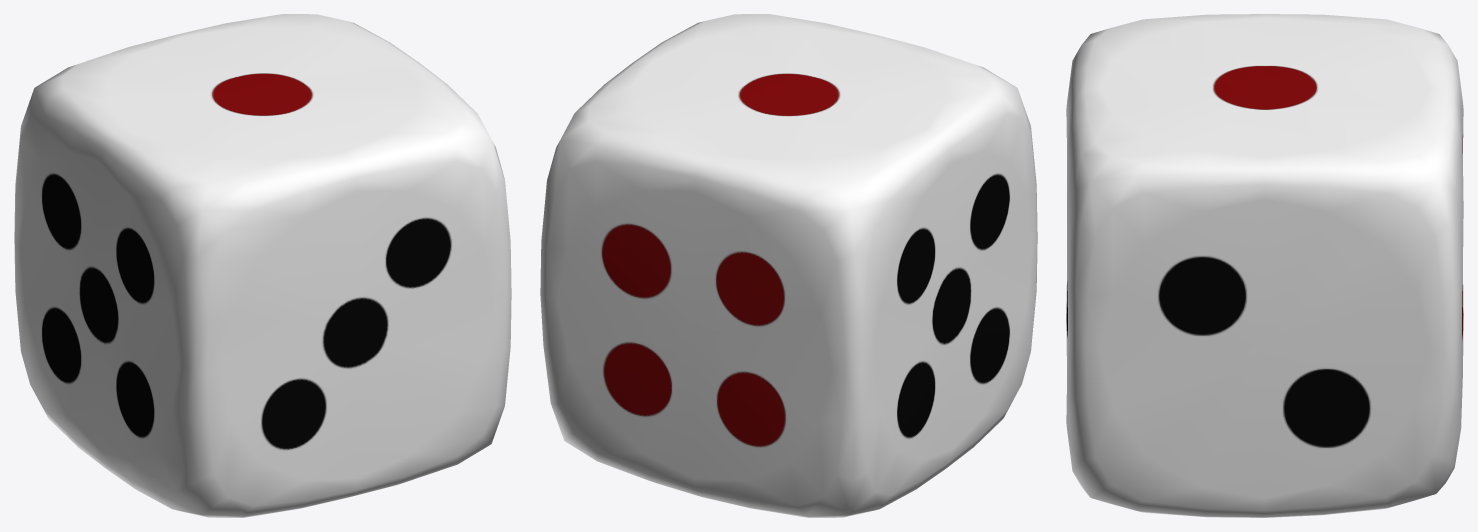
File: dice.glb
3 renders of one model, left to right at view 1: azimuth 30°, elevation 25°; view 2: azimuth 150°, elevation 25°; view 3: azimuth 270°, elevation 25°, orthographic. The views are drawn at different scales.
Parts seen in each view (by area): view 1: Dice_low; view 2: Dice_low; view 3: Dice_low.
Part boxes in pixels (x1,y1,x2,y2): Dice_low: (14, 14, 511, 517); Dice_low: (540, 14, 1037, 517); Dice_low: (1066, 14, 1463, 517).
Bounding box in the file's own units: 0.194 × 0.1941 × 0.1941.
Materials: 1 (1 with a texture image).
